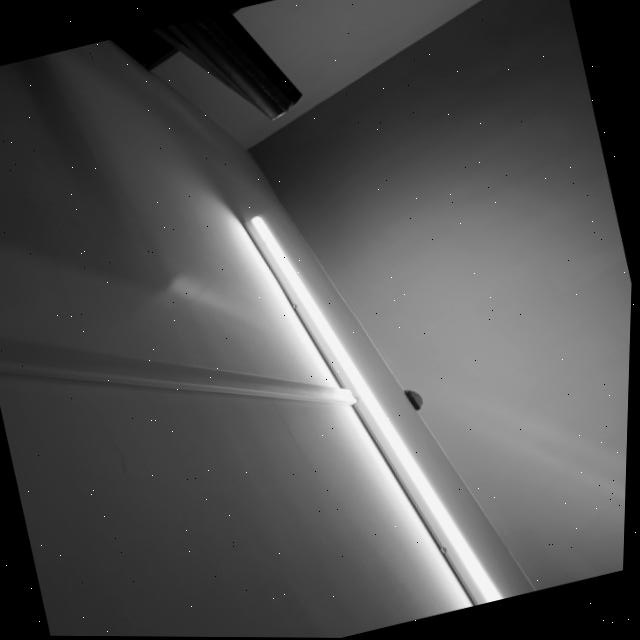fluorescent tube: (216, 164, 558, 640)
